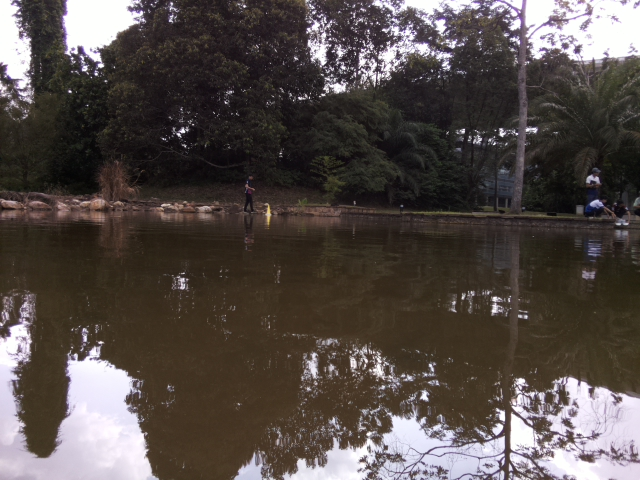checkpoint: (263, 201, 273, 218)
